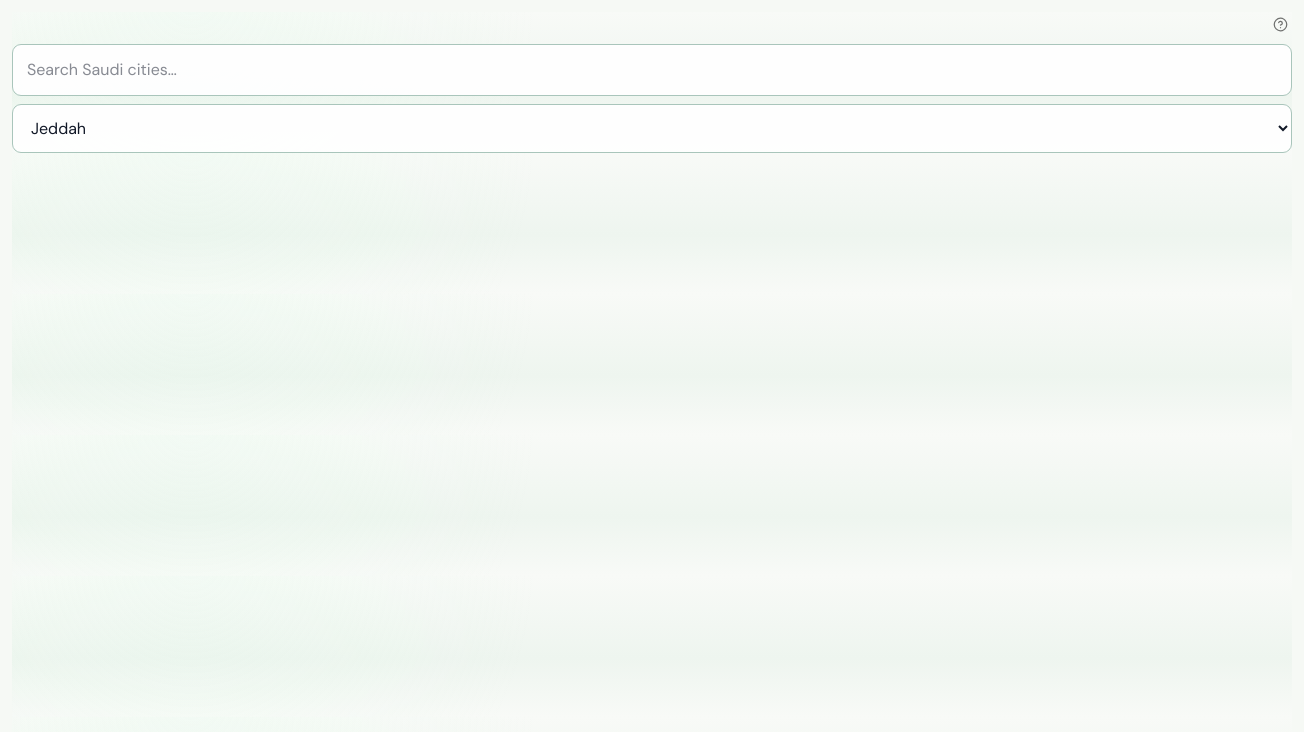
Test: SearchableSaudiSelect help cue › provides a keyboard-accessible English explanation
Focus the button named "How do these matching choices work?" at (1280, 24), box [1268,12,1292,36]
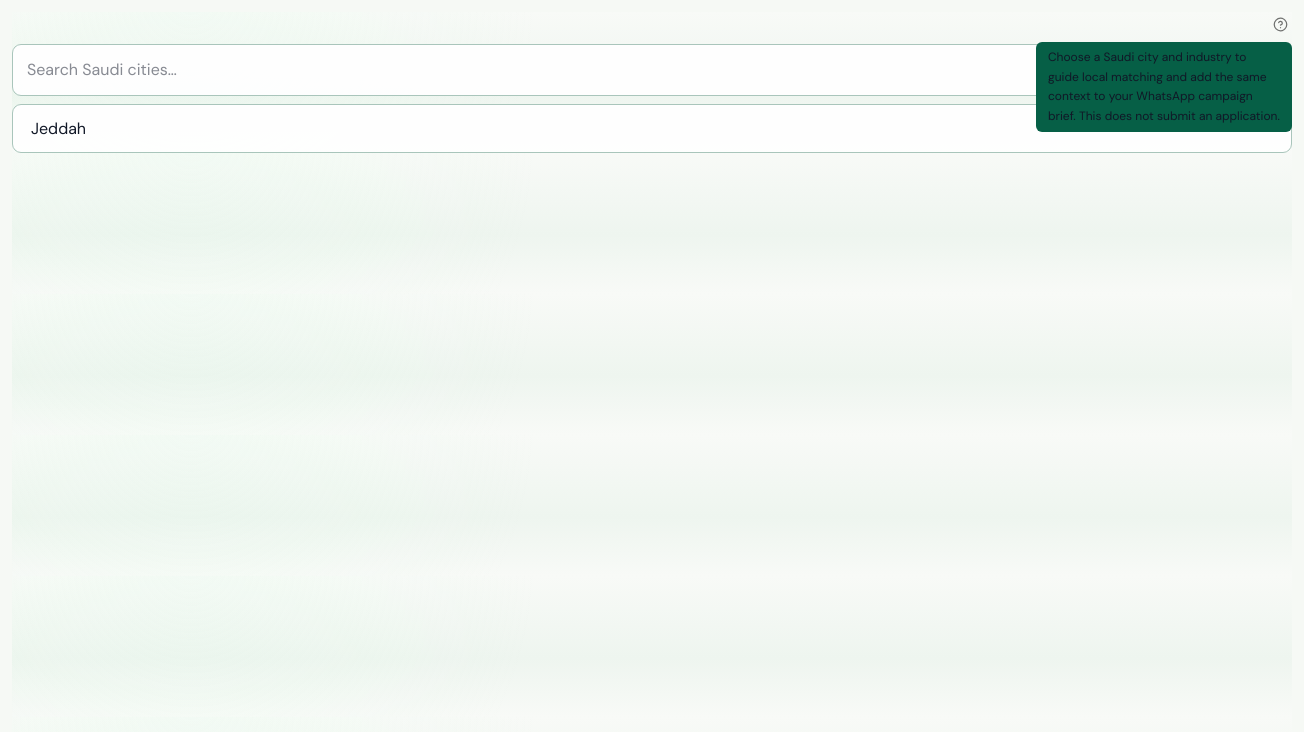
Expected: the tooltip "guide local matching" is shown, [1048,49,1280,124]
